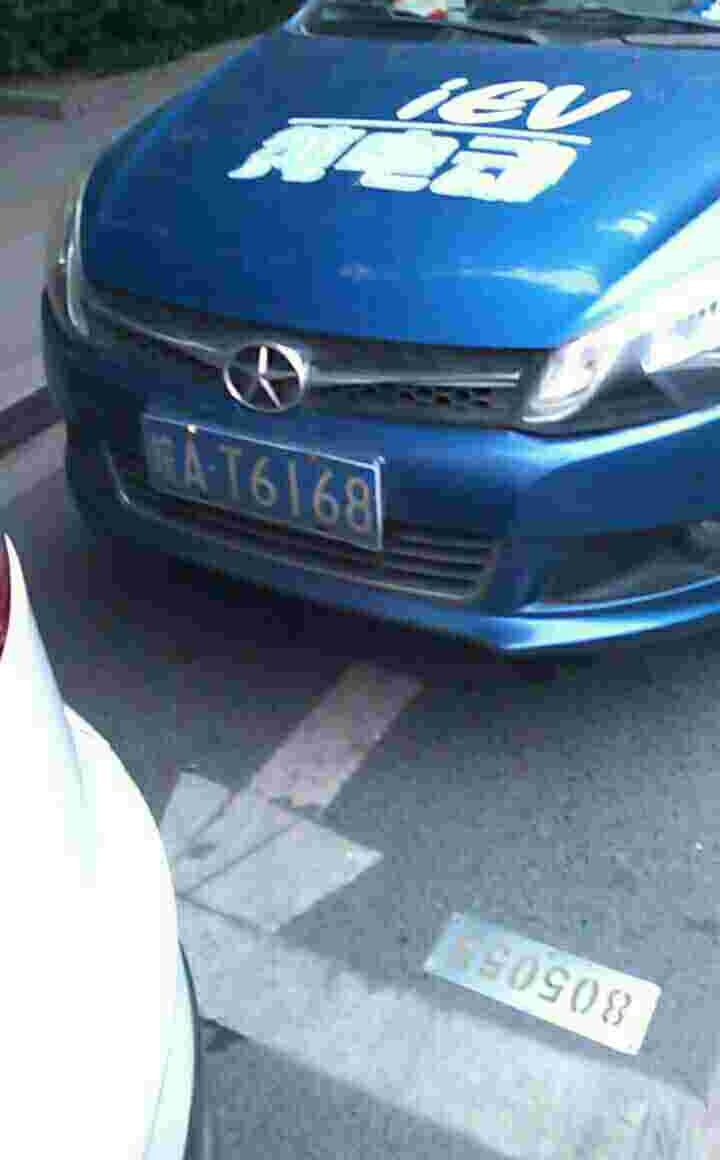car: (128, 409, 384, 533)
